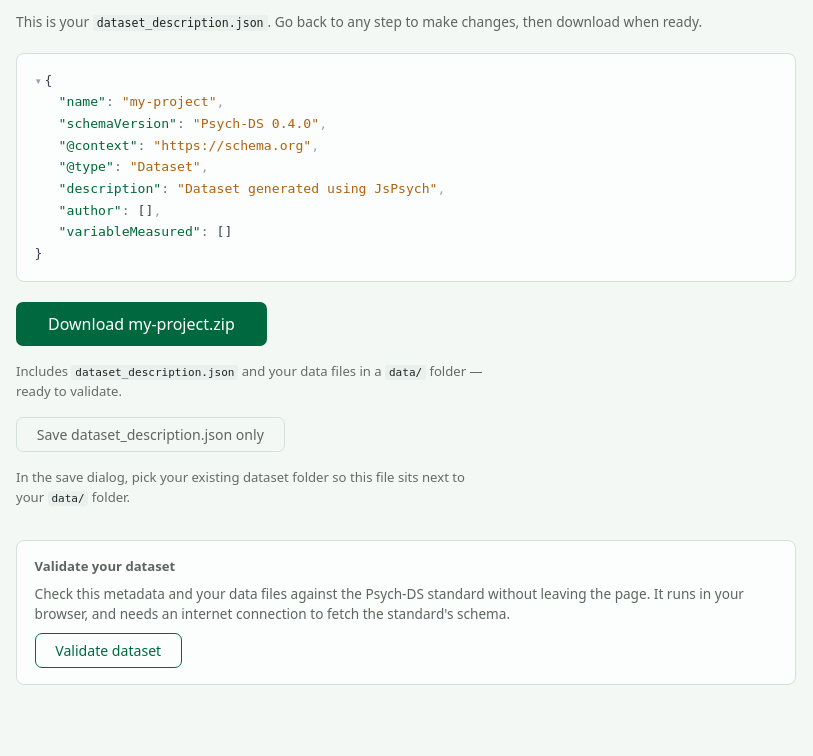
Review › validates the metadata and passes the staged data store through
The width and height of the screenshot is (813, 756).
Click the button "Validate dataset" at (108, 651), box [35,633,182,668]
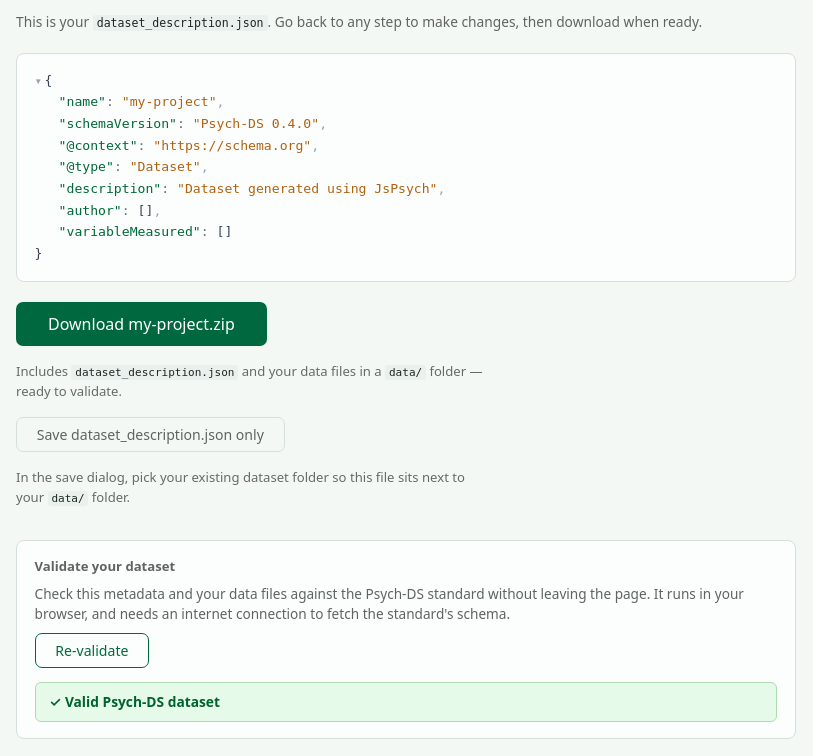
Expected: the text "✓ Valid Psych-DS dataset" is shown, [35,682,777,722]
Expected: the button "Re-validate" is shown, [35,633,149,668]
